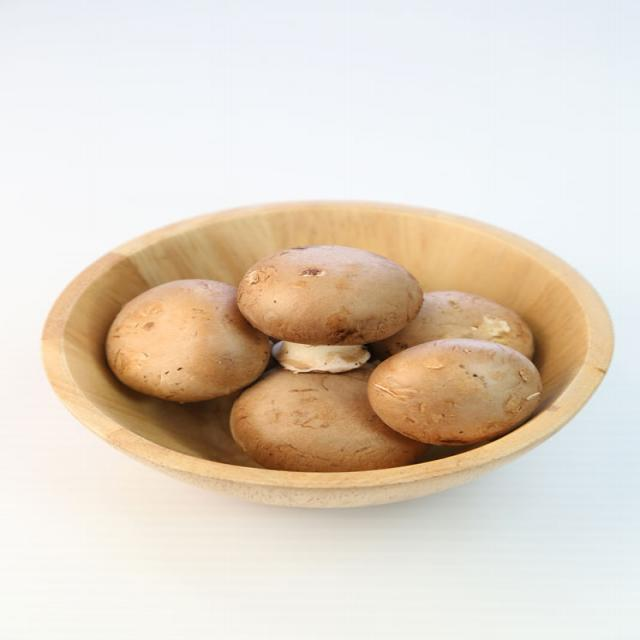Agaricus bisporus: (111, 242, 557, 470)
